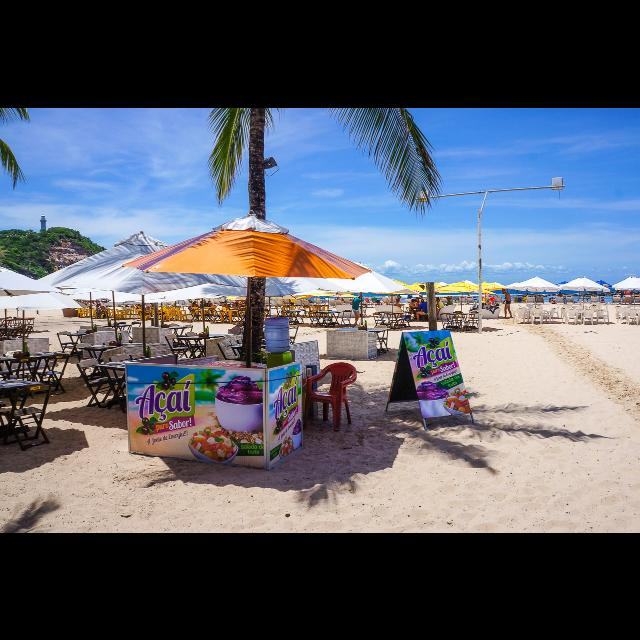head: (436, 297, 440, 303), (502, 288, 506, 294), (358, 295, 362, 299), (376, 300, 380, 304), (395, 300, 399, 304), (412, 299, 416, 303), (421, 299, 425, 303), (415, 298, 419, 302), (447, 296, 451, 300), (626, 286, 630, 288)
person: (350, 294, 364, 328), (500, 286, 514, 318), (415, 298, 429, 322), (407, 296, 419, 320), (433, 295, 445, 317), (444, 296, 454, 316), (623, 285, 633, 305), (389, 299, 403, 313), (374, 298, 386, 314), (412, 296, 422, 314)
